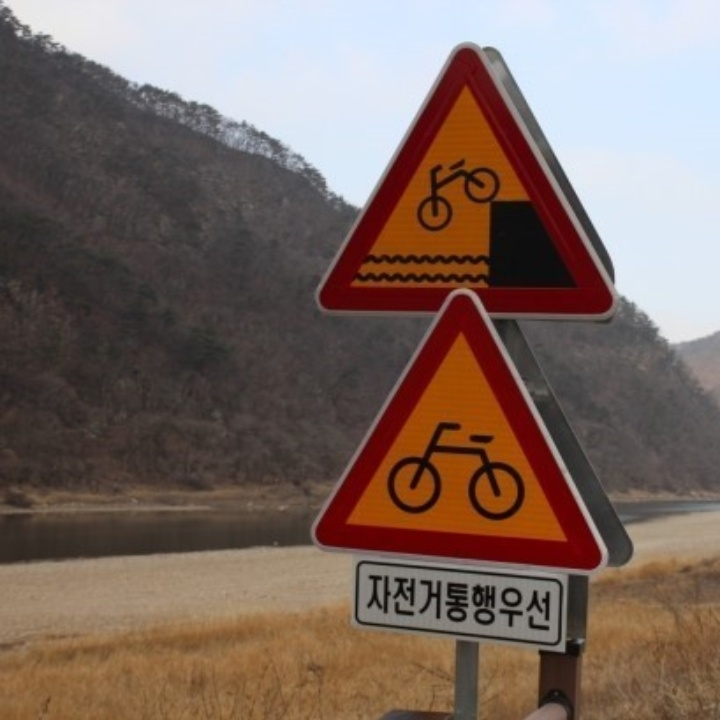bicycle: (312, 291, 606, 580)
